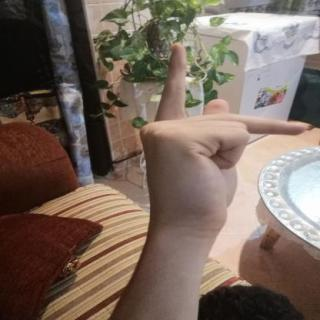DHAA: (126, 34, 314, 244)
